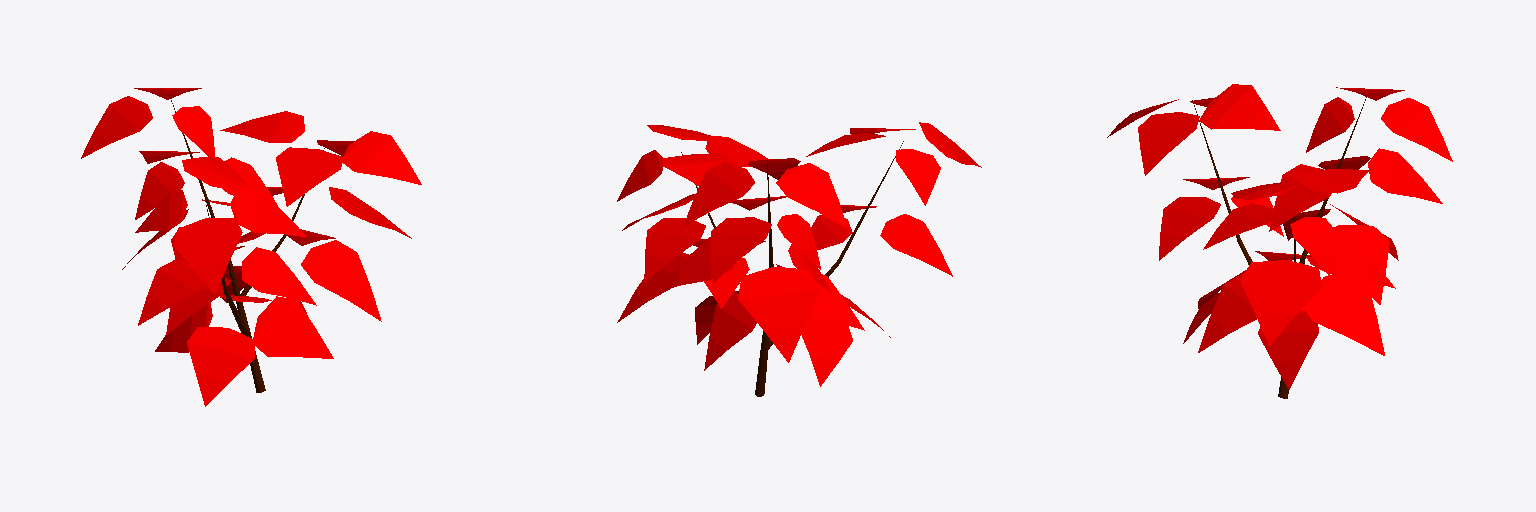
3 views of the same model, side by side, from view 1: azimuth 30°, elevation 25°; view 2: azimuth 150°, elevation 25°; view 3: azimuth 270°, elevation 25° (orthographic).
Visible parts, largest first — view 1: Copperleaf:Copperleaf; view 2: Copperleaf:Copperleaf; view 3: Copperleaf:Copperleaf.
Part boxes in pixels (bbox=[...]): Copperleaf:Copperleaf: bbox=[81, 88, 421, 406]; Copperleaf:Copperleaf: bbox=[617, 122, 981, 396]; Copperleaf:Copperleaf: bbox=[1107, 84, 1452, 398].
Bounding box in the file's own units: 0.6124 × 0.5379 × 0.6051.
Materials: 2 (2 with a texture image).